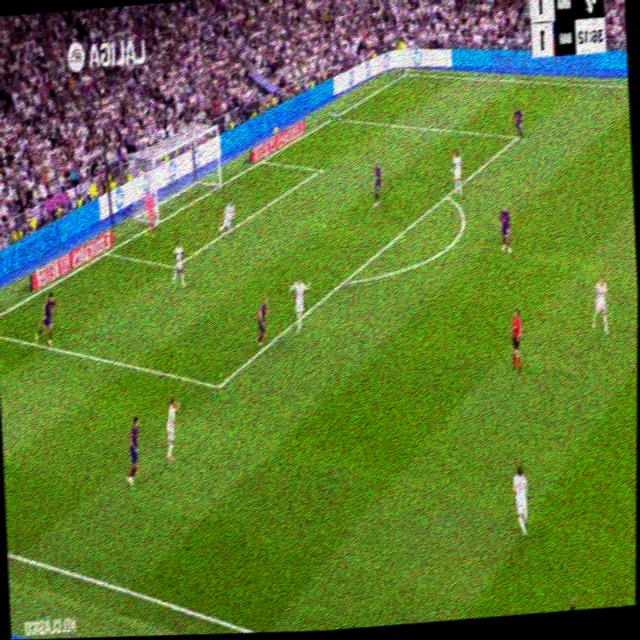bigarea_bottom_inner: (212, 372, 225, 400)
bigarea_top_inner: (514, 130, 521, 144)
bigarea_top_outter: (330, 108, 340, 125)
bottom_arc_area_intersection: (339, 270, 351, 292)
corner: (402, 67, 412, 79)
smallarea_top_inner: (317, 164, 324, 175)
top_arc_area_intersection: (443, 186, 453, 204)
